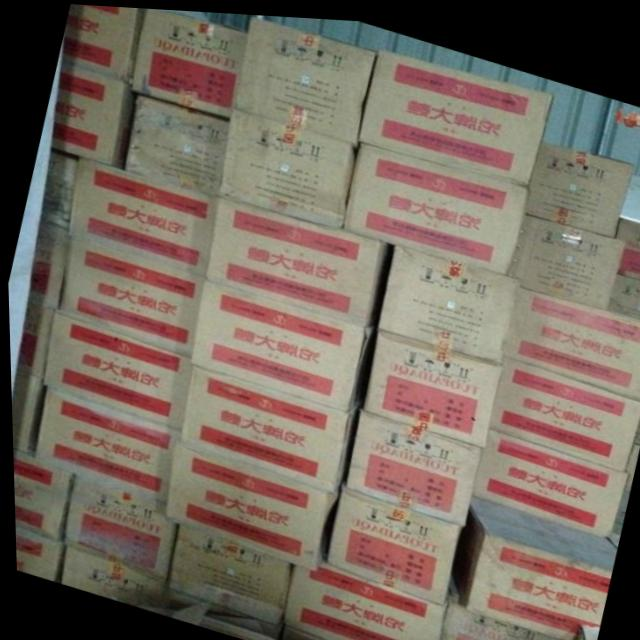box: (357, 45, 553, 180), (199, 192, 391, 326), (446, 488, 613, 636), (338, 140, 526, 267), (174, 360, 357, 490), (188, 279, 372, 407), (158, 441, 335, 567), (63, 156, 219, 279), (487, 351, 640, 465), (236, 14, 376, 138), (468, 423, 629, 530), (40, 317, 186, 434), (35, 387, 170, 512), (56, 238, 198, 356), (216, 105, 356, 224), (322, 483, 463, 601), (374, 239, 517, 355), (360, 326, 498, 441), (500, 281, 640, 394), (343, 410, 480, 520), (274, 555, 441, 640), (129, 7, 247, 118), (163, 521, 288, 622), (62, 471, 170, 579), (508, 208, 625, 305), (121, 93, 228, 194), (523, 135, 633, 230), (434, 570, 560, 640), (51, 61, 134, 167), (57, 3, 152, 85), (56, 548, 159, 606), (11, 452, 70, 545), (24, 222, 72, 307), (9, 301, 54, 381), (37, 153, 74, 225), (9, 374, 42, 453), (12, 534, 57, 582), (614, 208, 640, 273), (606, 266, 640, 312), (275, 626, 322, 640), (569, 619, 594, 640)
